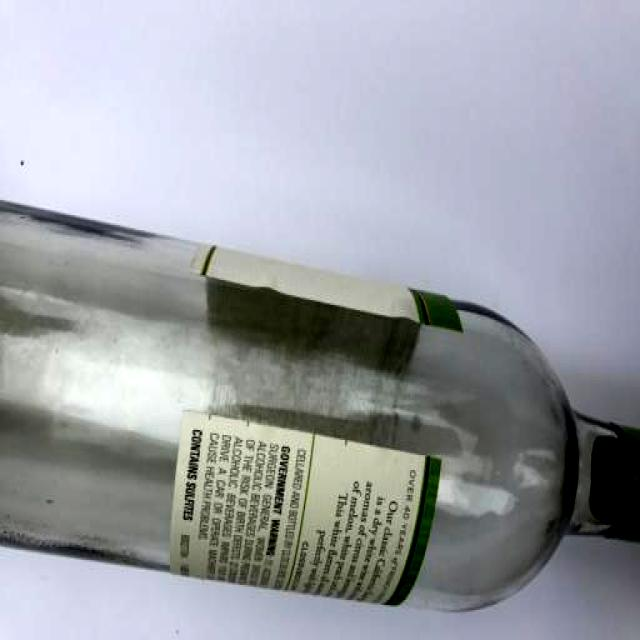Glass: (0, 195, 640, 619)
